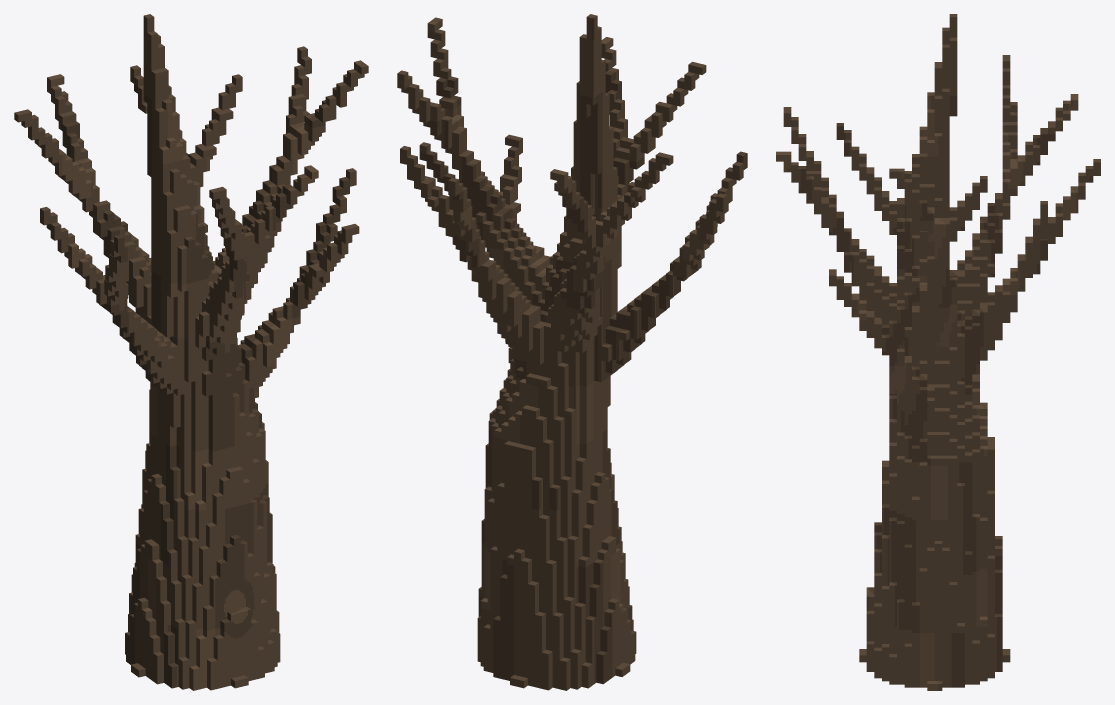
Rendered from oak_ancient_winter_2.glb.
3 views of the same model, side by side, from view 1: azimuth 30°, elevation 25°; view 2: azimuth 150°, elevation 25°; view 3: azimuth 270°, elevation 25° (orthographic). The views are drawn at different scales.
Visible parts, largest first — view 1: VoxelVisual; view 2: VoxelVisual; view 3: VoxelVisual.
Boxes of the visible parts, box(x1,y1,x2,y2) form: VoxelVisual: box(14, 14, 368, 690); VoxelVisual: box(397, 14, 747, 690); VoxelVisual: box(776, 14, 1100, 690).
Size of what is drawn, in the model's own units: 11.25 by 22.75 by 10.75.
